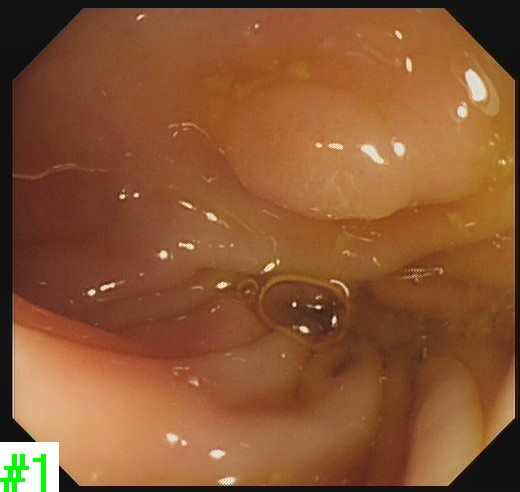adenoma: (218, 78, 412, 223)
